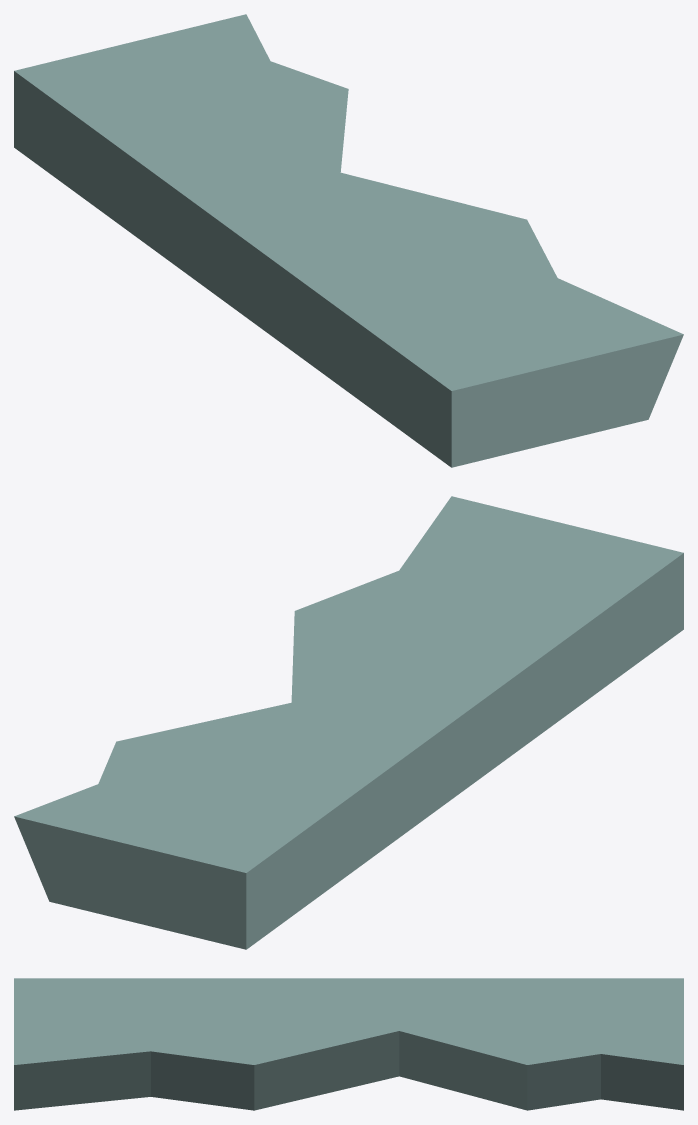
File: naturePack_127.fbx
The picture shows the model from 3 angles, top to bottom: view 1: azimuth 30°, elevation 25°; view 2: azimuth 150°, elevation 25°; view 3: azimuth 270°, elevation 25°; orthographic projection. The views are drawn at different scales.
Visible parts, largest first — view 1: naturePack_127; view 2: naturePack_127; view 3: naturePack_127.
Boxes of the visible parts, x1,y1,x2,y2 form: naturePack_127: [14, 14, 683, 467]; naturePack_127: [14, 496, 683, 949]; naturePack_127: [14, 978, 683, 1110].
Bounding box in the file's own units: 92 × 29 × 300.
